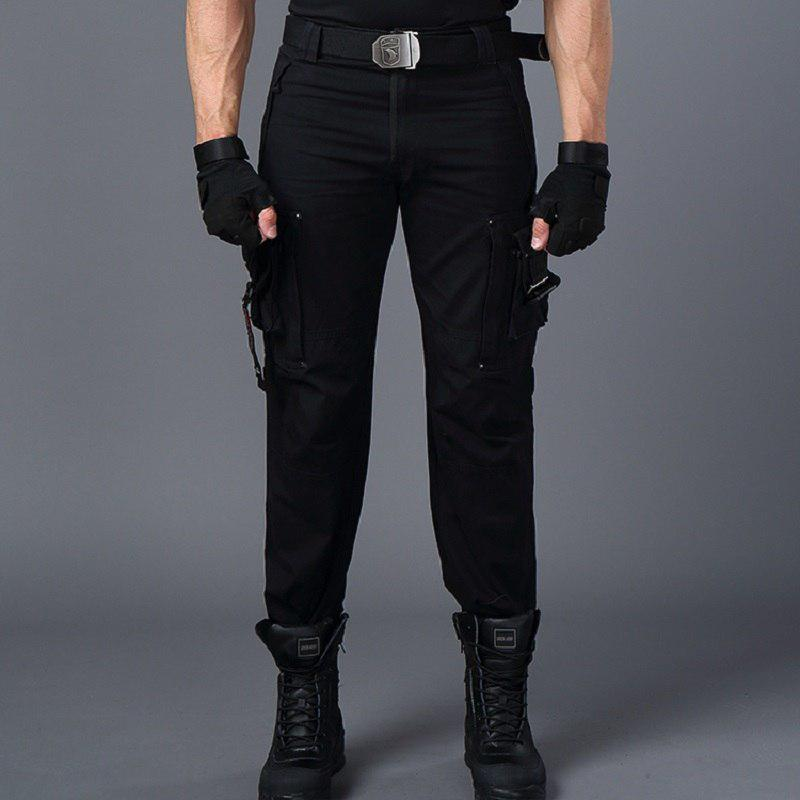pants: (214, 26, 551, 632)
